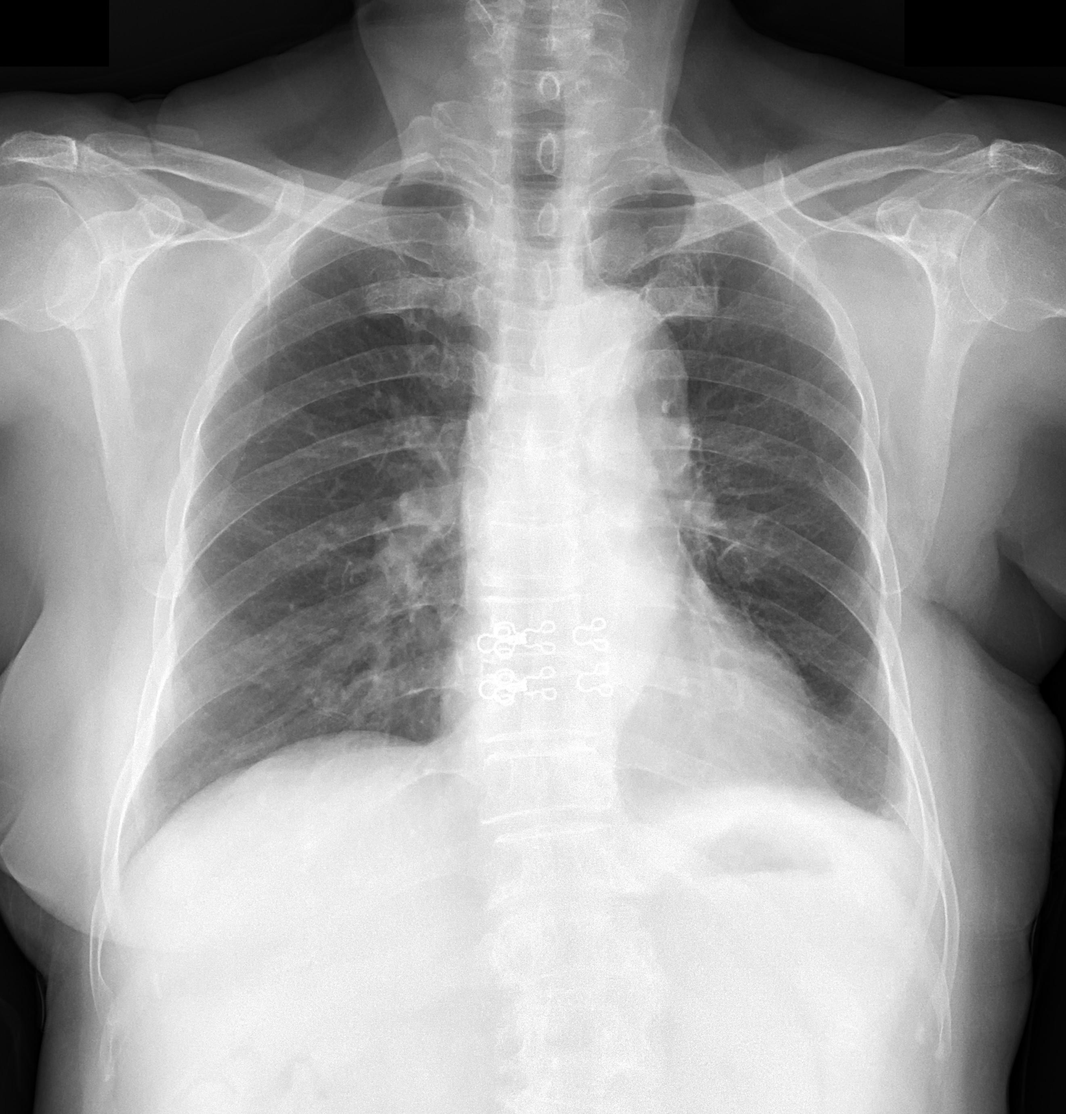Aortic enlargement: (573, 300, 694, 457)
Pleural thickening: (874, 786, 927, 857)
